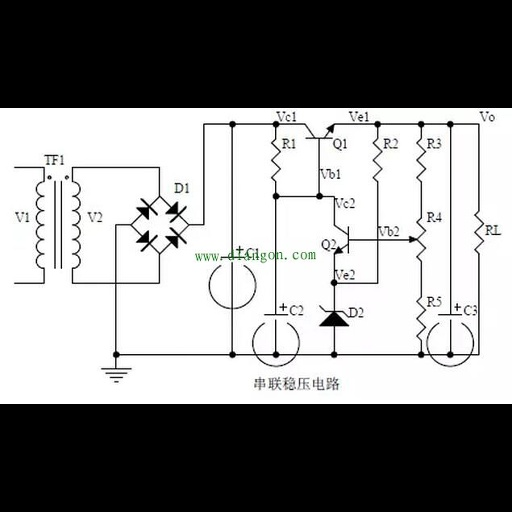gnd: (95, 366, 139, 385)
npn: (330, 219, 359, 259)
rectifierbridge: (128, 193, 191, 257)
secondresistance: (409, 290, 426, 343), (470, 201, 484, 264), (412, 134, 427, 187), (368, 135, 383, 187), (269, 134, 282, 191)
transformer: (32, 174, 85, 276)
